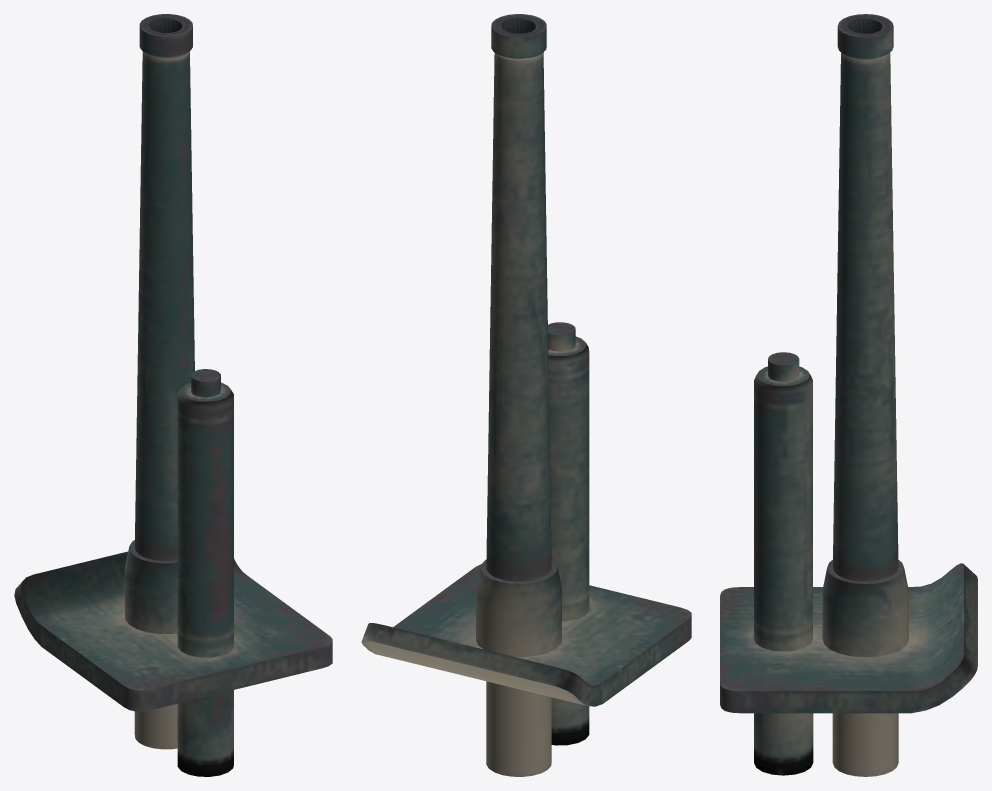
Rendered from Gun_01.glb.
The picture shows the model from 3 angles, left to right: view 1: azimuth 30°, elevation 25°; view 2: azimuth 150°, elevation 25°; view 3: azimuth 270°, elevation 25°; orthographic projection. The views are drawn at different scales.
Parts seen in each view (by area): view 1: set_0_group_0; view 2: set_0_group_0; view 3: set_0_group_0.
Part boxes in pixels (bbox=[...]): set_0_group_0: bbox=[14, 14, 332, 776]; set_0_group_0: bbox=[361, 14, 691, 776]; set_0_group_0: bbox=[720, 14, 977, 776].
Bounding box in the file's own units: 0.5362 × 1.77 × 0.5618.
1 material, 1 textured.
